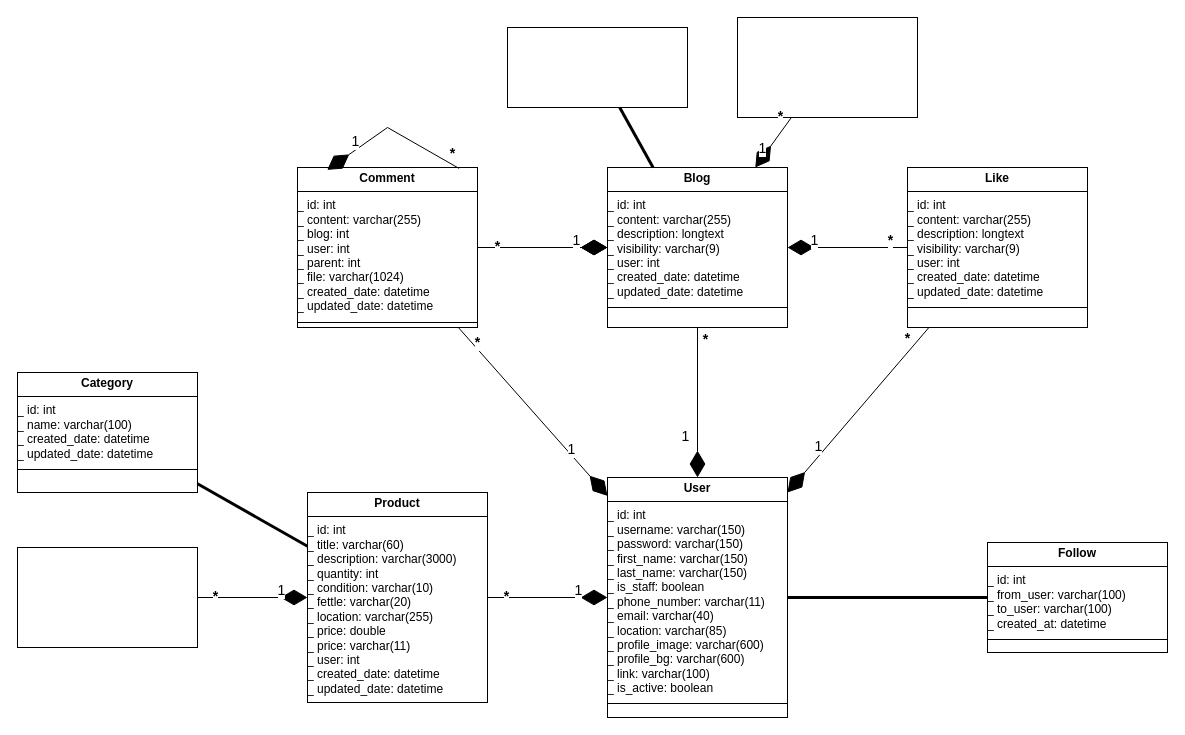
Image size: 1185x735. Some labels were removed from this diagram. Each missing label, with the box of its shape:
BlogMedia _ id: int _ blog: id _ file: varchar(600): (736, 16, 918, 118)
Productmedia _ id: int _ blog: id _ file: varchar(600): (16, 546, 198, 648)
Tag _ id: int _ name: varchar(100): (506, 26, 688, 108)
